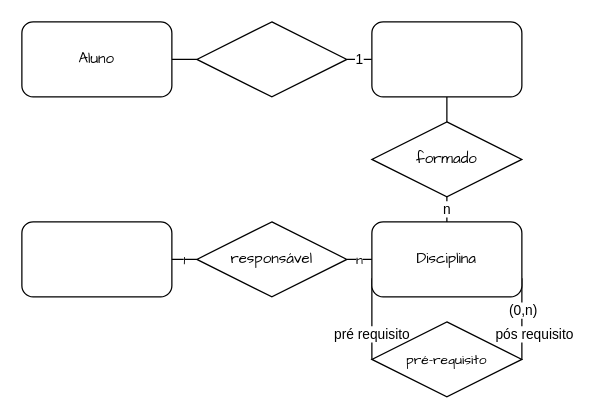
This 595x419 diagram has some shape labels left out. Each missing label, with the centre of its shape:
Curso: the point at 446,59
Departamento: the point at 96,259
inscrição: the point at 271,59
